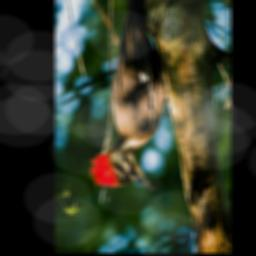Woodpecker: (87, 0, 176, 194)
